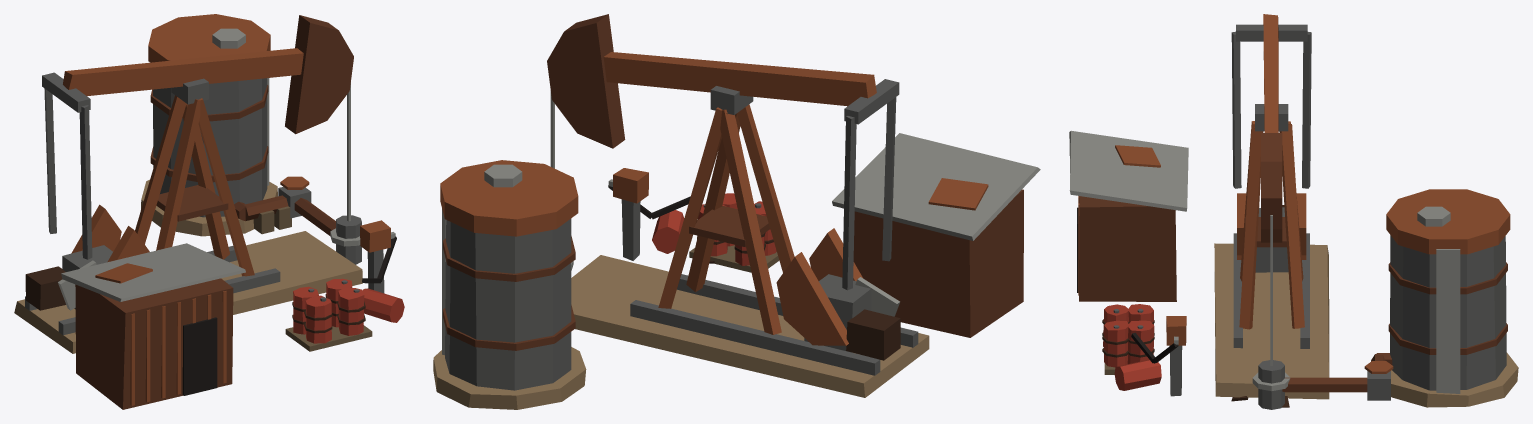
The model's file is pump_station.glb.
3 renders of one model, left to right at view 1: azimuth 30°, elevation 25°; view 2: azimuth 150°, elevation 25°; view 3: azimuth 270°, elevation 25°, orthographic. The views are drawn at different scales.
Visible parts, largest first — view 1: pump_station; view 2: pump_station; view 3: pump_station.
Boxes of the visible parts, left/top/right/bottom form: pump_station: left=14, top=14, right=404, bottom=409; pump_station: left=433, top=14, right=1040, bottom=409; pump_station: left=1069, top=14, right=1518, bottom=409.
Bounding box in the file's own units: 8.33 × 5.98 × 9.41.
